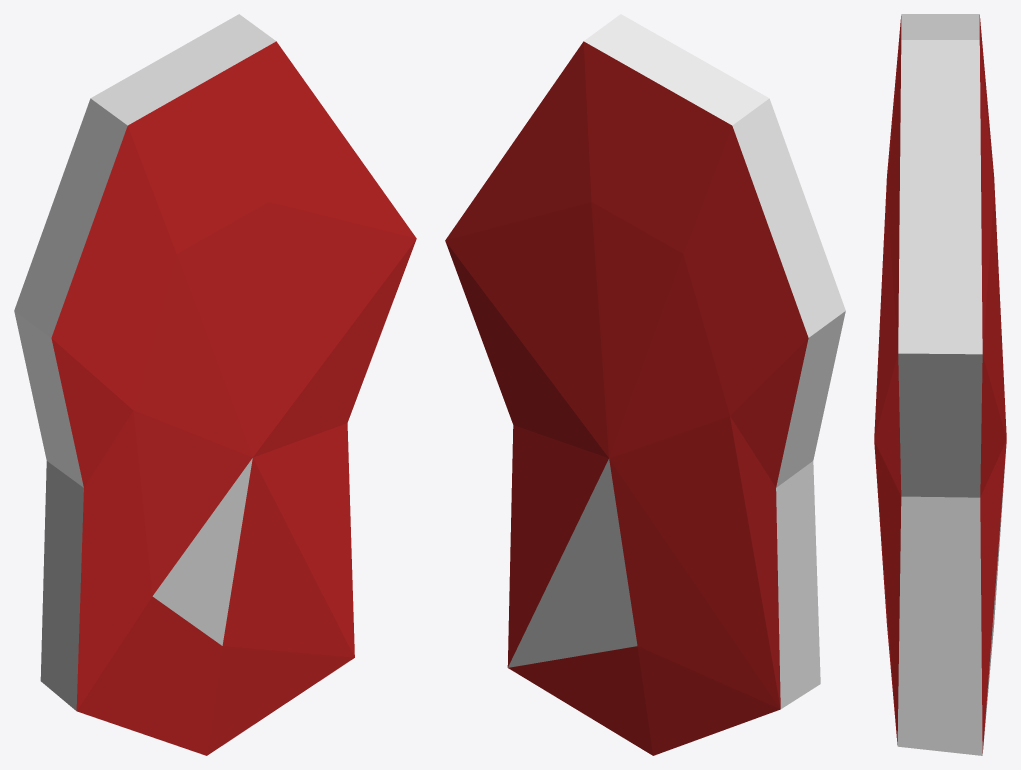
Rendered from Meat.fbx.
3 renders of one model, left to right at view 1: azimuth 30°, elevation 25°; view 2: azimuth 150°, elevation 25°; view 3: azimuth 270°, elevation 25°, orthographic. The views are drawn at different scales.
Visible parts, largest first — view 1: Meat; view 2: Meat; view 3: Meat.
Boxes of the visible parts, <box> form: Meat: <box>14,14,416,755</box>; Meat: <box>445,14,845,755</box>; Meat: <box>874,14,1006,755</box>.
Bounding box in the file's own units: 14.25 × 26.11 × 4.27.
